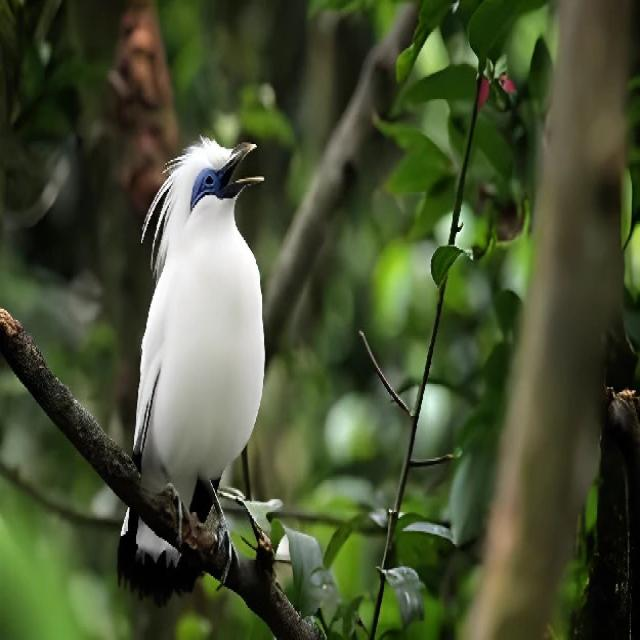Jalak Bali: (100, 117, 300, 628)
